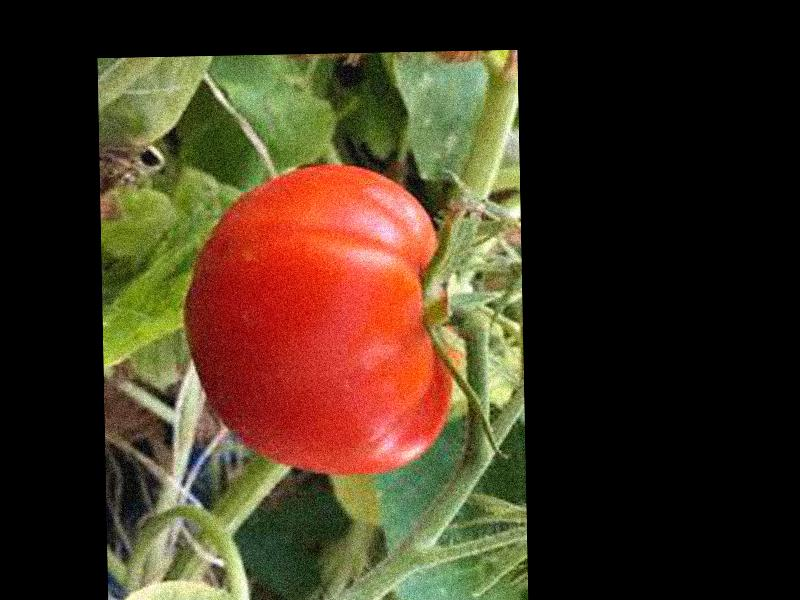Tomato: (184, 162, 453, 480)
